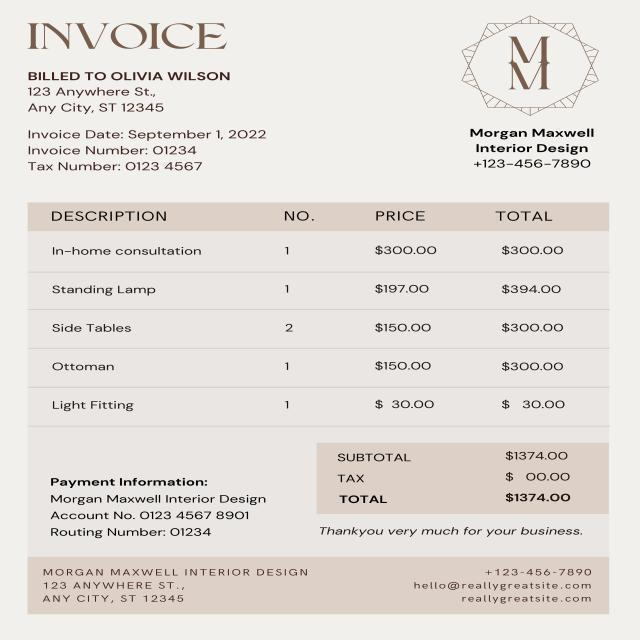paragraph: (316, 440, 605, 518), (456, 33, 606, 182), (38, 465, 277, 549), (28, 559, 328, 611), (14, 126, 288, 181), (25, 62, 271, 117), (386, 559, 610, 613), (20, 16, 251, 54), (306, 522, 595, 543)
table: (32, 205, 601, 422)
